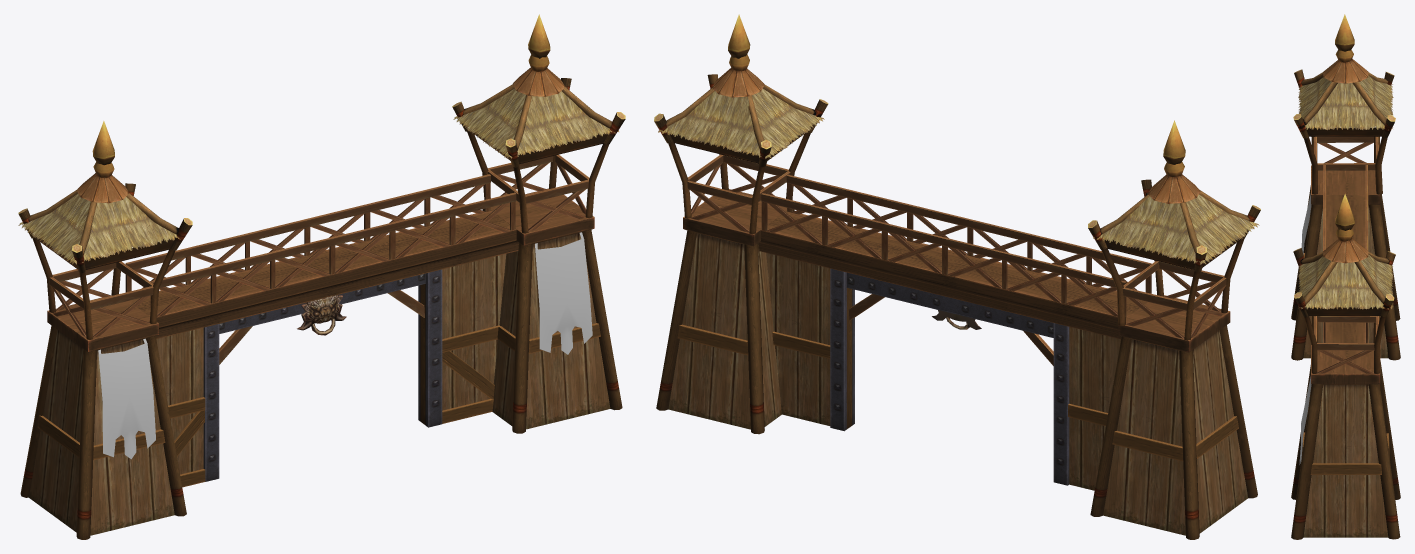
Rendered from SV_BUD_forest_chengmen_0.FBX.
3 views of the same model, side by side, from view 1: azimuth 30°, elevation 25°; view 2: azimuth 150°, elevation 25°; view 3: azimuth 270°, elevation 25° (orthographic). The views are drawn at different scales.
Parts seen in each view (by area): view 1: SV_BUD_forest_chengmen_0, SV_BUD_forest_chengmen_0_maocao, SV_BUD_forest_chengmen_0_qi; view 2: SV_BUD_forest_chengmen_0, SV_BUD_forest_chengmen_0_maocao; view 3: SV_BUD_forest_chengmen_0, SV_BUD_forest_chengmen_0_maocao, SV_BUD_forest_chengmen_0_qi.
Part boxes in pixels (x1=…): SV_BUD_forest_chengmen_0: x1=18, y1=14, x2=625, y2=539; SV_BUD_forest_chengmen_0_maocao: x1=18, y1=88, x2=618, y2=264; SV_BUD_forest_chengmen_0_qi: x1=98, y1=232, x2=592, y2=459; SV_BUD_forest_chengmen_0: x1=654, y1=14, x2=1260, y2=539; SV_BUD_forest_chengmen_0_maocao: x1=658, y1=88, x2=1259, y2=264; SV_BUD_forest_chengmen_0: x1=1291, y1=14, x2=1400, y2=539; SV_BUD_forest_chengmen_0_maocao: x1=1298, y1=76, x2=1393, y2=309; SV_BUD_forest_chengmen_0_qi: x1=1299, y1=193, x2=1311, y2=464.
Bounding box in the file's own units: 18.66 × 12.36 × 3.79.
